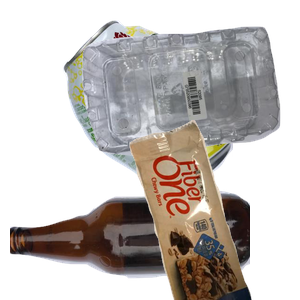glass: (10, 188, 250, 300)
metal: (60, 18, 300, 198)
plastic: (80, 24, 300, 172)
trash: (127, 120, 300, 300)
